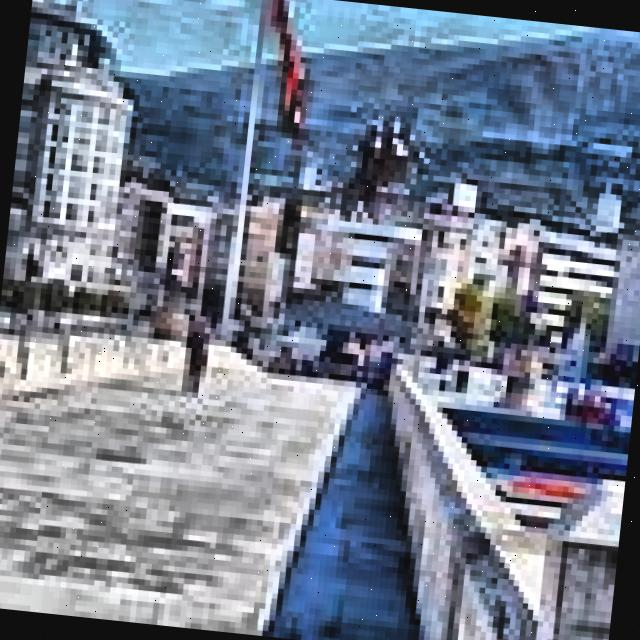alexander the great monument: (308, 108, 438, 346)
stone bridge: (0, 305, 598, 640)
